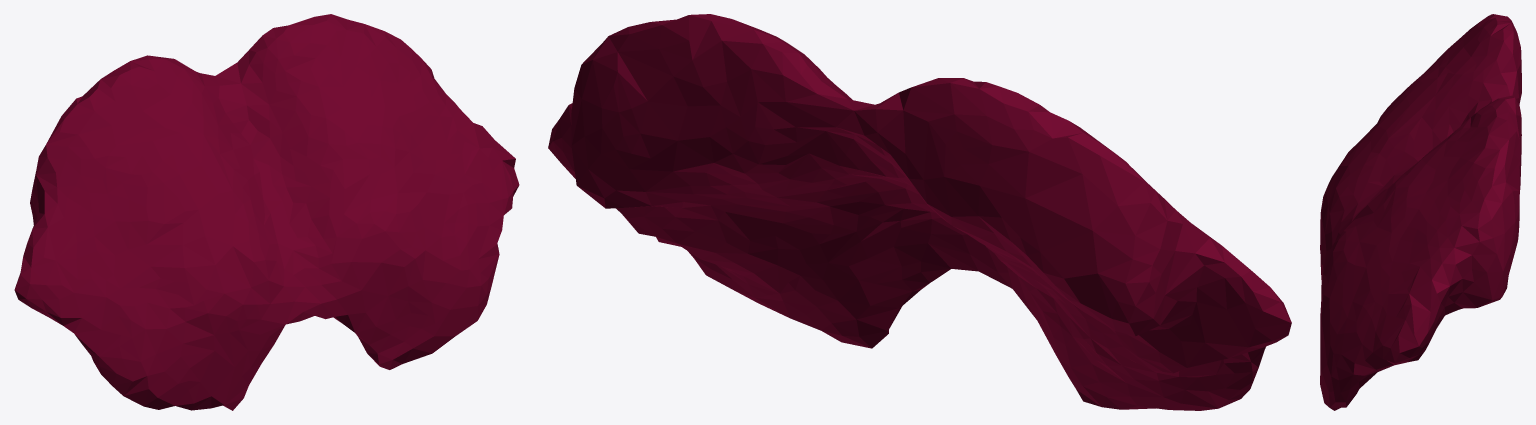
File: 96-10D-area 10 of cortex, dorsal part-('0.4980', '0.0000', '0.1882').obj
3 renders of one model, left to right at view 1: azimuth 30°, elevation 25°; view 2: azimuth 150°, elevation 25°; view 3: azimuth 270°, elevation 25°, orthographic. The views are drawn at different scales.
Size of the model in its own units: 128 by 69.71 by 44.43.
